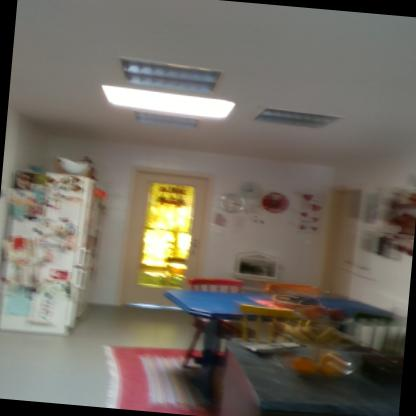closed: (115, 158, 220, 307)
